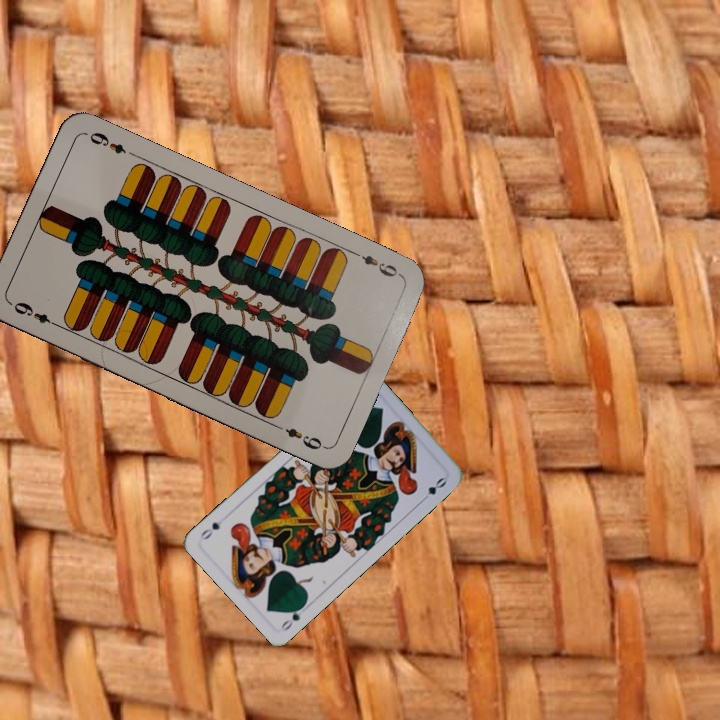E9: (348, 247, 404, 280), (9, 298, 63, 330)
GO: (277, 599, 308, 634)
